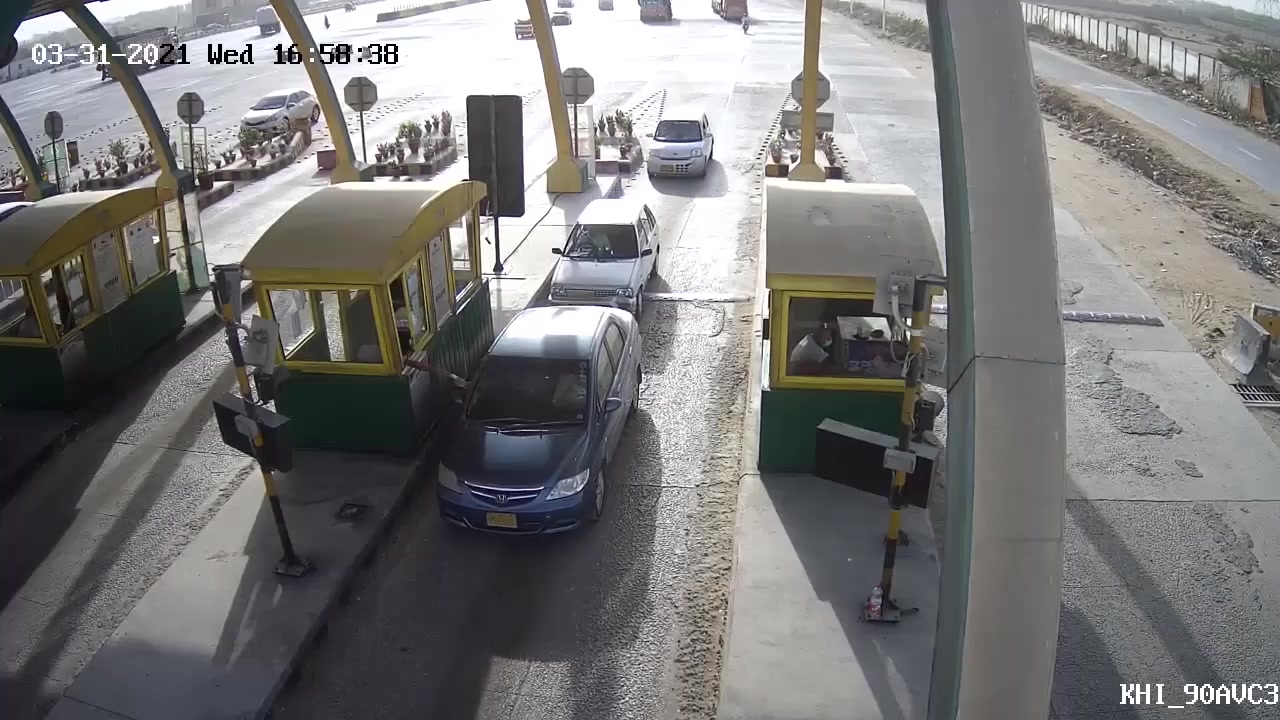F1: (430, 303, 646, 540), (633, 101, 724, 195)
